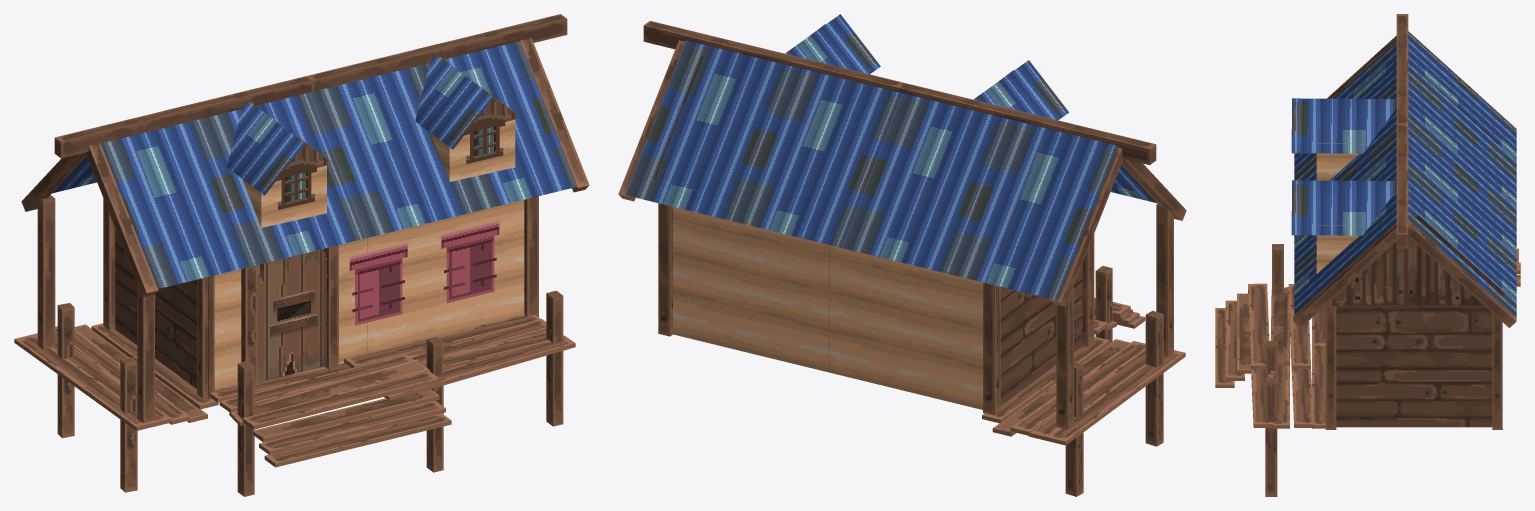
Rendered from SM_House04.FBX.
The picture shows the model from 3 angles, left to right: view 1: azimuth 30°, elevation 25°; view 2: azimuth 150°, elevation 25°; view 3: azimuth 270°, elevation 25°; orthographic projection. The views are drawn at different scales.
Visible parts, largest first — view 1: Plane104; view 2: Plane104; view 3: Plane104.
Part boxes in pixels (x1=…): Plane104: x1=14, y1=14, x2=589, y2=496; Plane104: x1=618, y1=14, x2=1186, y2=496; Plane104: x1=1215, y1=14, x2=1520, y2=496.
Size of the model in its own units: 119 by 78.4 by 69.6.
